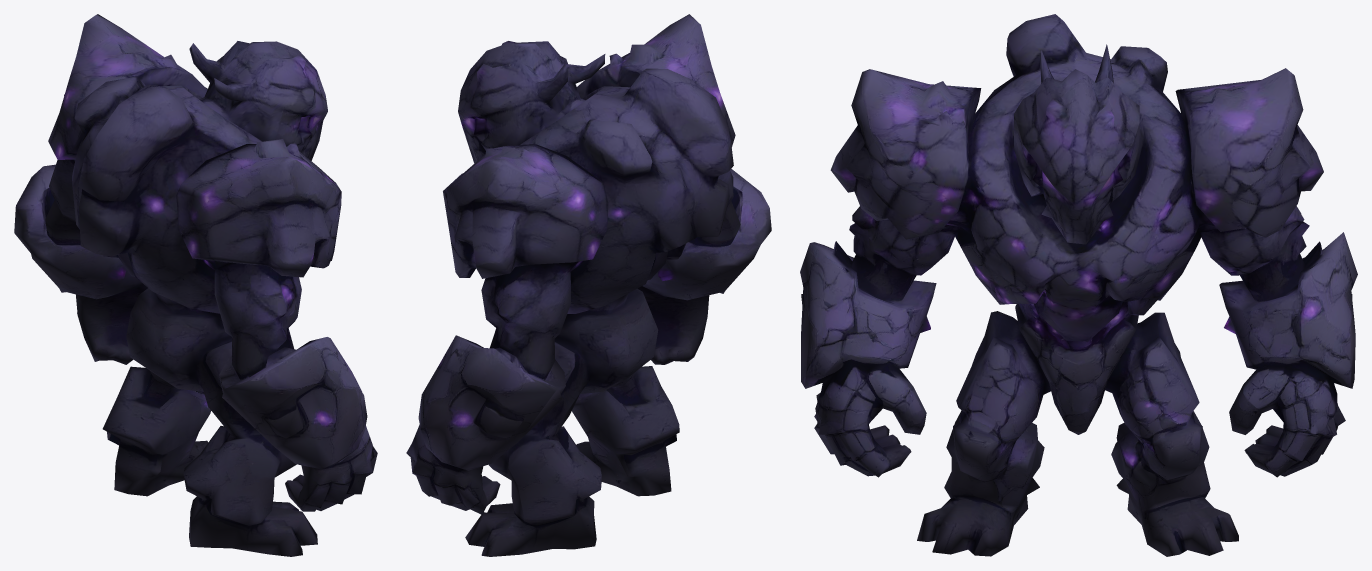
The picture shows the model from 3 angles, left to right: view 1: azimuth 30°, elevation 25°; view 2: azimuth 150°, elevation 25°; view 3: azimuth 270°, elevation 25°; orthographic projection. The views are drawn at different scales.
Parts seen in each view (by area): view 1: tripo_node_e40ccfb2-ae7f-4e5d-9149-4fea933057a9; view 2: tripo_node_e40ccfb2-ae7f-4e5d-9149-4fea933057a9; view 3: tripo_node_e40ccfb2-ae7f-4e5d-9149-4fea933057a9.
Boxes of the visible parts, x1=… form: tripo_node_e40ccfb2-ae7f-4e5d-9149-4fea933057a9: x1=14, y1=14, x2=377, y2=556; tripo_node_e40ccfb2-ae7f-4e5d-9149-4fea933057a9: x1=406, y1=14, x2=771, y2=556; tripo_node_e40ccfb2-ae7f-4e5d-9149-4fea933057a9: x1=800, y1=14, x2=1357, y2=556.
Size of the model in its own units: 0.5684 by 0.959 by 0.998.
Materials: 1 (1 with a texture image).
